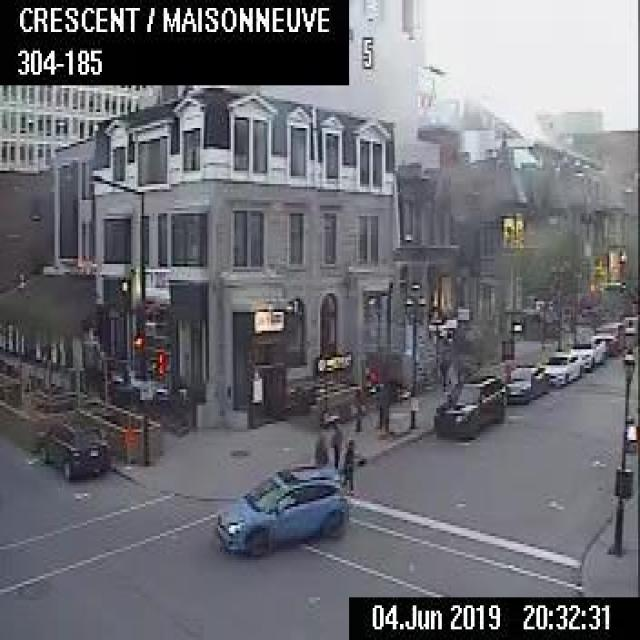construction: (122, 425, 136, 460)
pedestrian: (342, 436, 356, 492), (328, 419, 342, 467), (351, 385, 363, 429), (313, 428, 327, 463)
vehicle: (213, 459, 347, 557), (433, 372, 505, 438), (39, 416, 111, 480), (503, 364, 548, 401), (538, 350, 581, 383), (590, 320, 624, 354), (568, 340, 600, 368), (622, 313, 638, 337)
